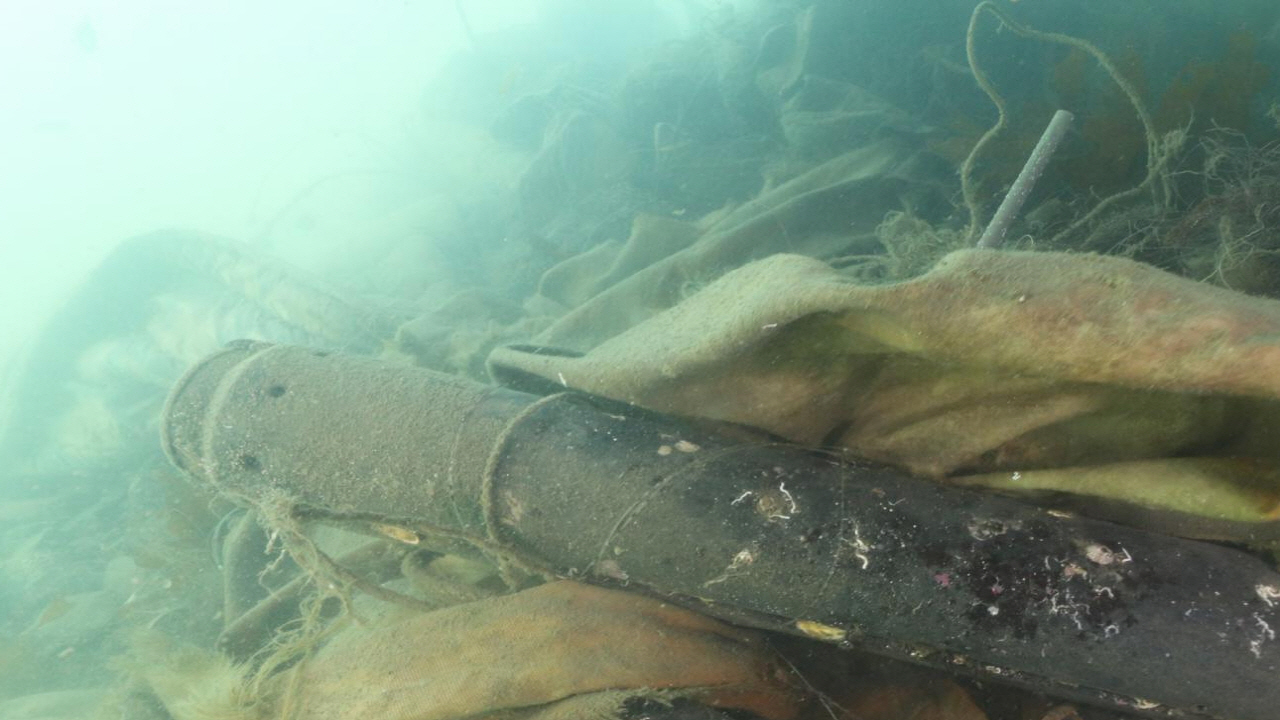bundle of ropes: (300, 389, 573, 611), (960, 3, 1174, 249)
eel fish trap: (159, 337, 1280, 720)
